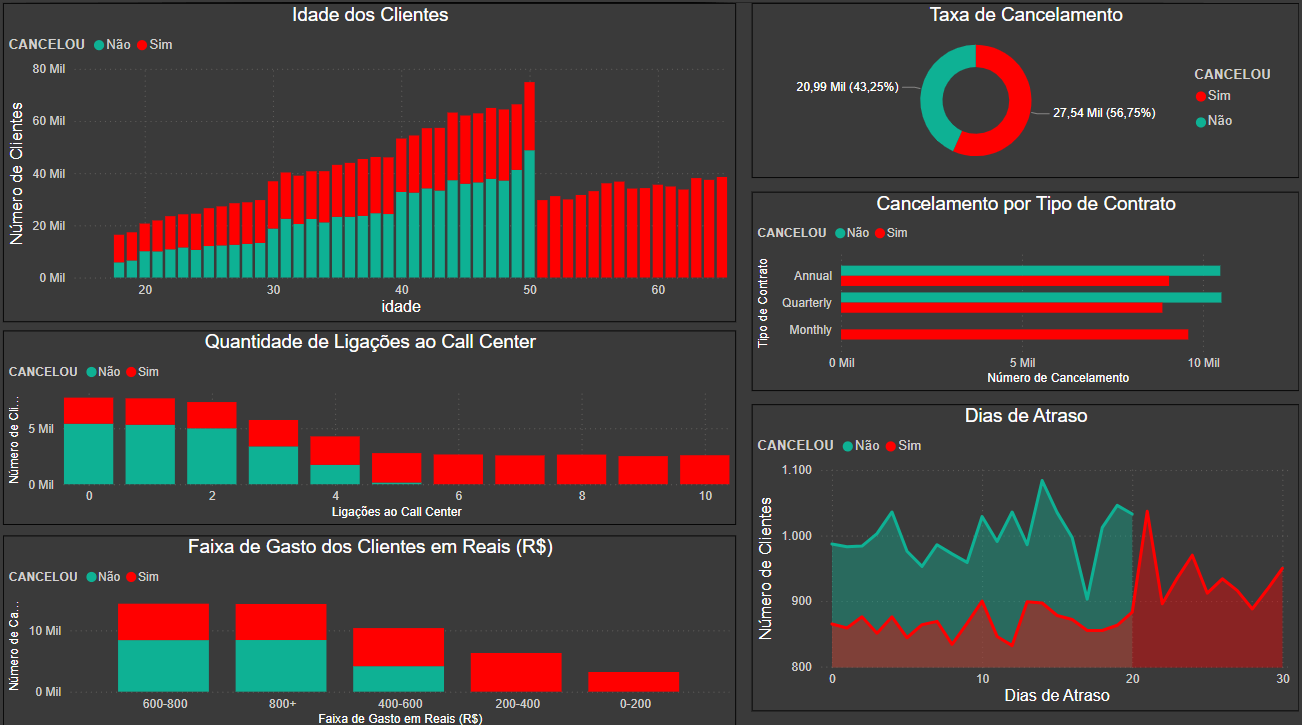

The dashboard page shown, as its layout file describes it:
{"tool":"powerbi","page":{"name":"Churn","canvas":[1280,720],"ordinal":0},"visuals":[{"type":"donutChart","title":"Taxa de Cancelamento","fields":{"Category":["Tabela1.cancelou"],"Y":["CountNonNull(Tabela1.cancelou)"]},"box":[739.5,0,540.5,172.5],"z":0},{"type":"columnChart","title":"Idade dos Clientes","fields":{"Y":["Sum(Tabela1.idade)"],"Category":["Tabela1.idade"],"Series":["Tabela1.cancelou"]},"box":[0,0,723.9,314.9],"z":1000},{"type":"columnChart","title":"Quantidade de Ligações ao Call Center","fields":{"Category":["Tabela1.ligacoes_callcenter"],"Y":["CountNonNull(Tabela1.cancelou)"],"Series":["Tabela1.cancelou"]},"box":[0,323.3,723.9,191.8],"z":2000},{"type":"areaChart","title":"Dias de Atraso","fields":{"Category":["Tabela1.dias_atraso"],"Y":["CountNonNull(Tabela1.cancelou)"],"Series":["Tabela1.cancelou"]},"box":[739.5,395.7,540.5,302.8],"z":3000},{"type":"clusteredBarChart","title":"Cancelamento por Tipo de Contrato","fields":{"Category":["Tabela1.duracao_contrato"],"Y":["CountNonNull(Tabela1.cancelou)"],"Series":["Tabela1.cancelou"]},"box":[739.5,187,540.5,196.6],"z":4000},{"type":"columnChart","title":"Faixa de Gasto dos Clientes em Reais (R$)","fields":{"Category":["Tabela1.faixa_gasto"],"Series":["Tabela1.cancelou"],"Y":["CountNonNull(Tabela1.cancelou)"]},"box":[0,526,723.9,194.2],"z":5000}]}

Visuals, with their boxes in screenshot pixels (x1, y1, x2, y2), scaled from the page's 1280x720 canvas onto the 1302x725 screenshot:
"Taxa de Cancelamento" donutChart: [752,0,1301,174]
"Idade dos Clientes" columnChart: [0,0,736,317]
"Quantidade de Ligações ao Call Center" columnChart: [0,326,736,519]
"Dias de Atraso" areaChart: [752,398,1301,703]
"Cancelamento por Tipo de Contrato" clusteredBarChart: [752,188,1301,386]
"Faixa de Gasto dos Clientes em Reais (R$)" columnChart: [0,530,736,724]
